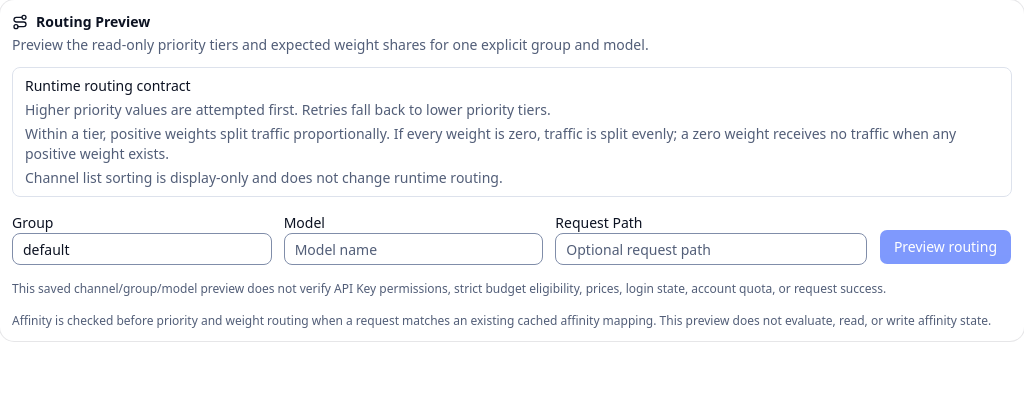
Test case: channel routing preview › renders one inline error for rejected 400
The width and height of the screenshot is (1024, 413).
Step 1. Type "gpt-test" into the field named "Routing preview model" → x=413, y=249, box [284,233,543,265]
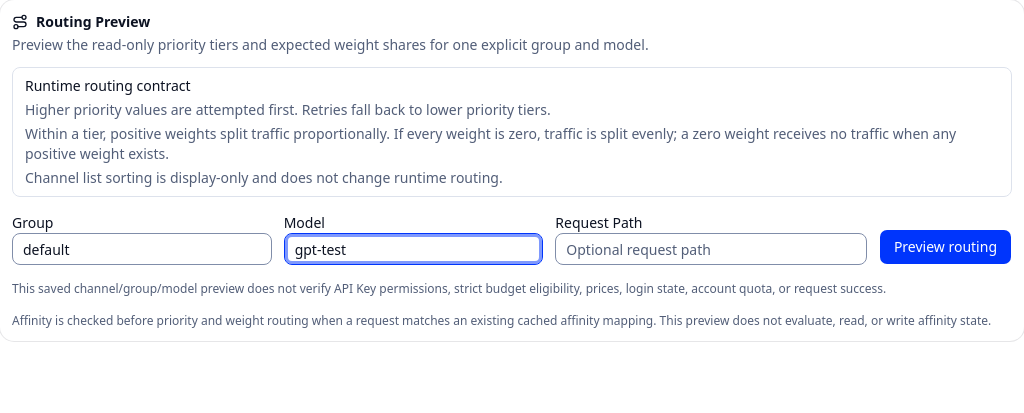
Step 2. Click the button "Preview routing" → x=945, y=247, box [879,229,1012,265]
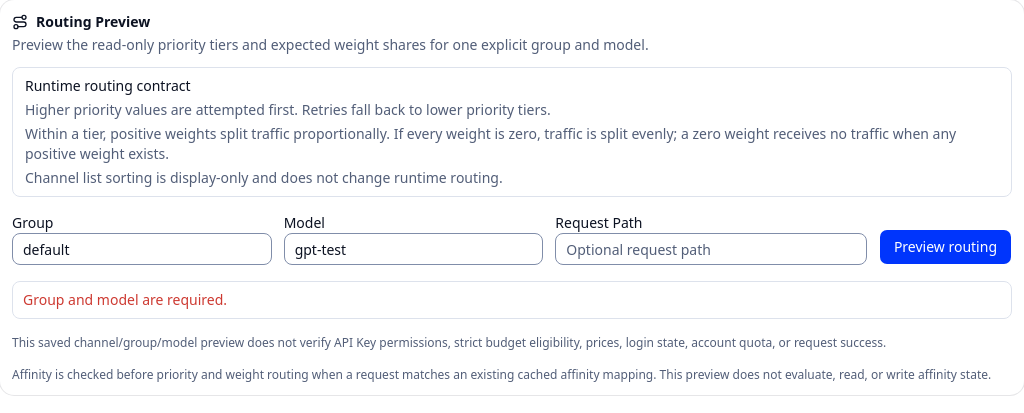
Expected: the text "Group and model are required." is shown, [23,290,227,309]
Expected: the number of messages is 1, [12,281,1012,319]
